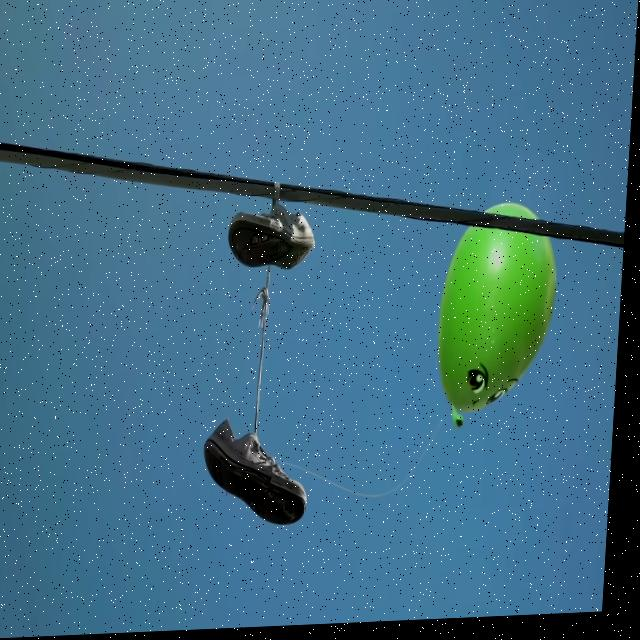balloon: (442, 208, 562, 417)
